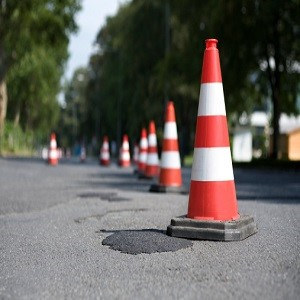traffic cone: (166, 38, 258, 242), (149, 99, 191, 193)
